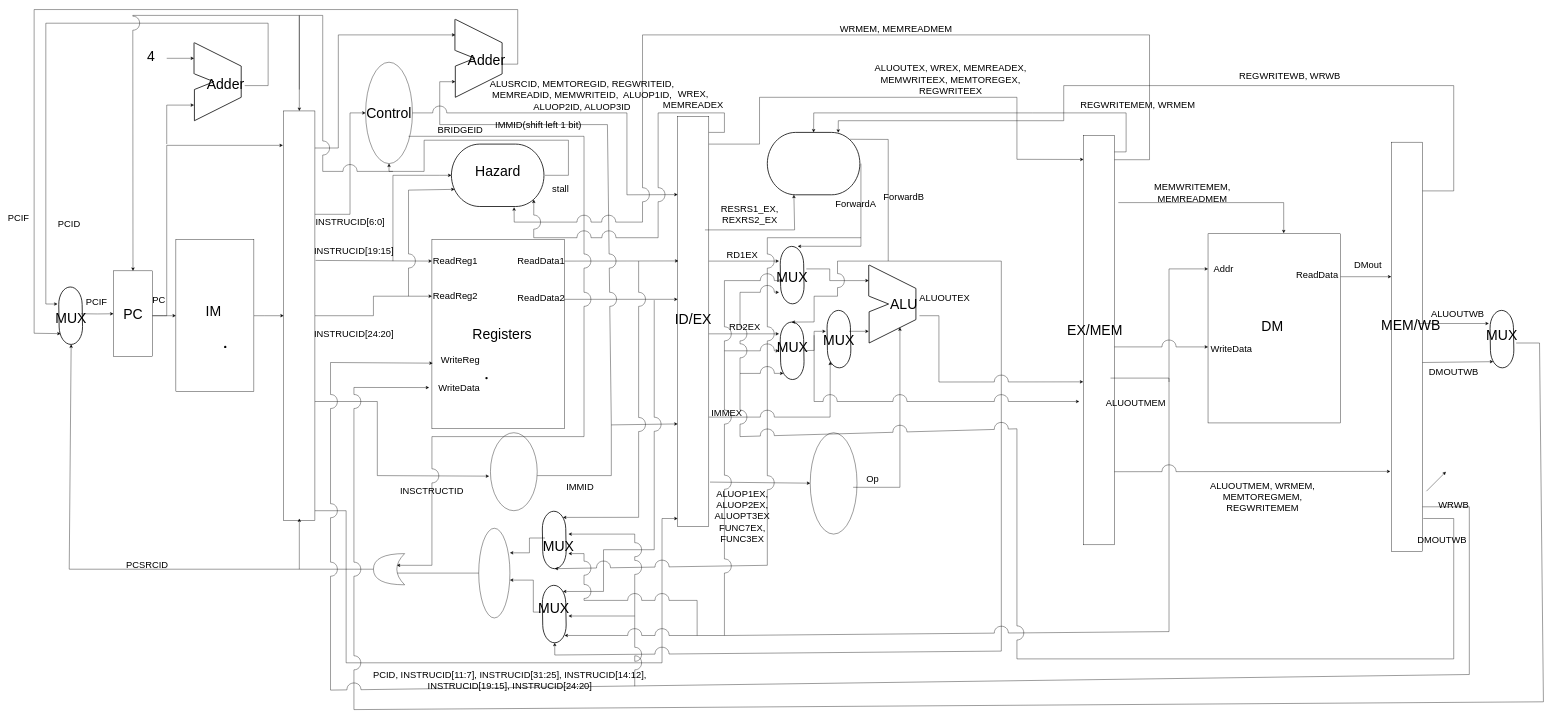
This 1553x720 diagram has some shape labels left out. The shapes that lost their labels are listed below. From the top down, each one's box as (x1, y1, x2, y2) in pixels, then its label:
(767, 132, 860, 195): Forwarding
(283, 111, 315, 520): IF/ID
(490, 432, 537, 511): ImmGen
(810, 432, 857, 534): ALUControl
(373, 553, 405, 585): OR
(478, 528, 510, 618): Comparator
